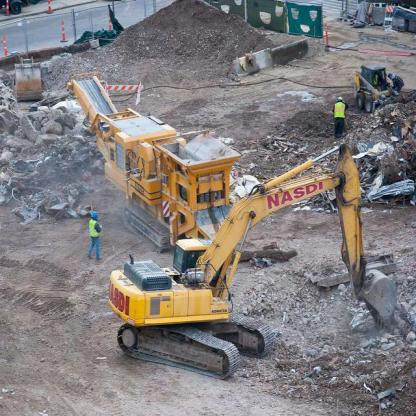excavator: (103, 143, 414, 390)
